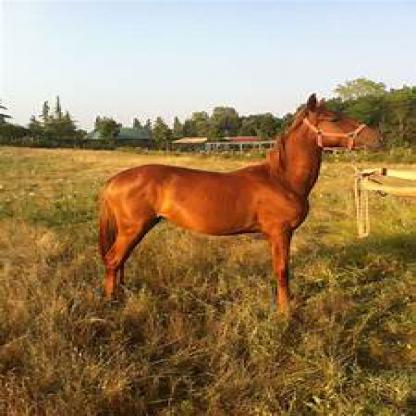horse: (94, 93, 388, 311)
